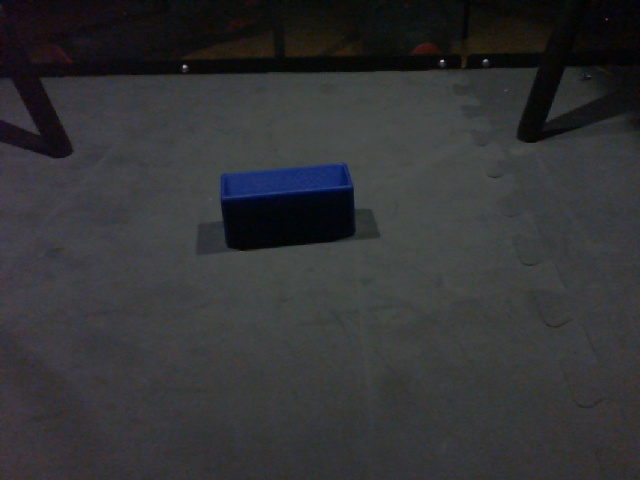BlueSample: (212, 160, 361, 251)
